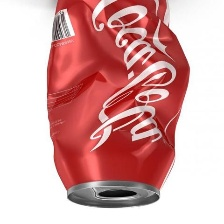can: (44, 0, 196, 210)
